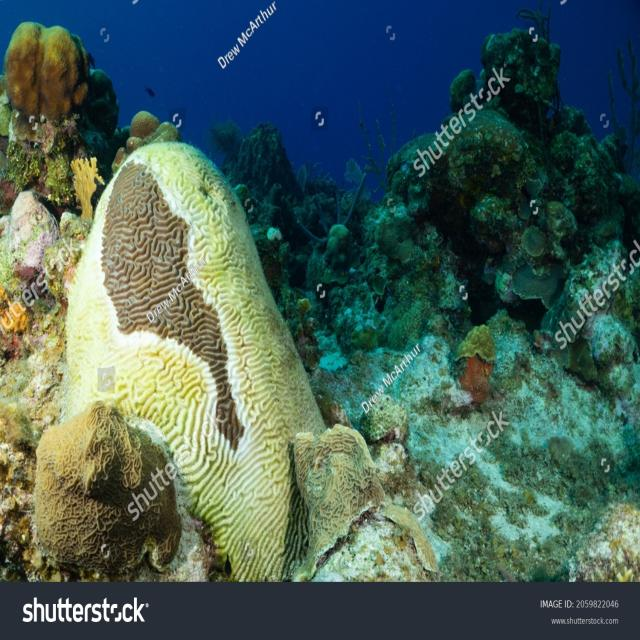Coral: (59, 141, 387, 582), (35, 401, 182, 574), (2, 20, 90, 126), (111, 110, 182, 173), (70, 157, 105, 222)
